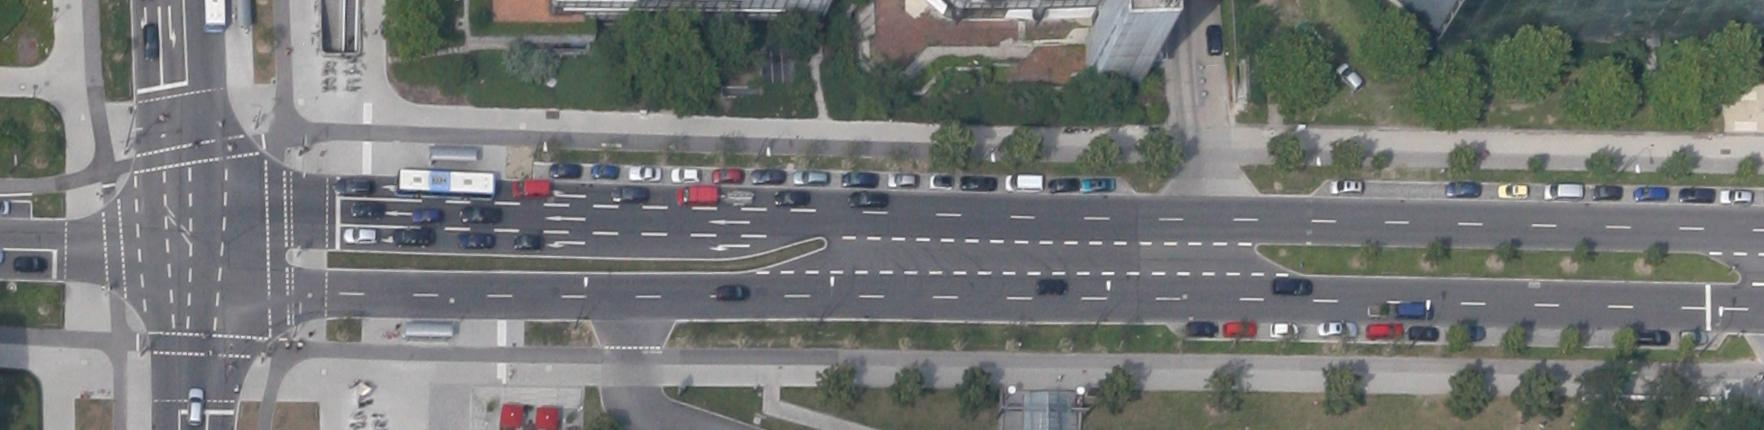car: (1333, 61, 1366, 93), (676, 187, 717, 206), (460, 206, 502, 224), (1272, 278, 1312, 296), (334, 176, 369, 196), (1543, 182, 1582, 200), (1005, 174, 1043, 192), (395, 229, 432, 247), (512, 179, 549, 197), (611, 186, 647, 204), (1395, 302, 1433, 319), (848, 191, 886, 208), (187, 387, 202, 427), (13, 256, 47, 274), (1444, 180, 1480, 197), (841, 171, 877, 188), (351, 200, 384, 218), (457, 233, 494, 249), (774, 190, 810, 206), (1367, 323, 1403, 339), (792, 170, 828, 186), (1206, 24, 1223, 56), (1637, 329, 1669, 346), (1719, 188, 1752, 205), (343, 227, 378, 243), (961, 176, 996, 191), (144, 25, 159, 62), (1317, 322, 1356, 335), (717, 285, 749, 301), (1223, 321, 1255, 337), (888, 171, 918, 188), (1036, 278, 1066, 295), (1678, 188, 1713, 203), (670, 165, 699, 183), (1186, 321, 1217, 337), (1407, 325, 1439, 341), (1633, 187, 1667, 201), (630, 165, 660, 181), (1329, 179, 1361, 194), (750, 169, 783, 183), (549, 163, 582, 178), (1081, 178, 1116, 191), (513, 235, 544, 250), (1048, 178, 1079, 192), (712, 169, 742, 183), (413, 207, 441, 223), (1269, 322, 1297, 338), (591, 163, 619, 179), (726, 189, 751, 206), (1592, 185, 1621, 199), (1497, 183, 1527, 198), (1680, 330, 1707, 344), (929, 174, 952, 189), (1368, 304, 1388, 317)
